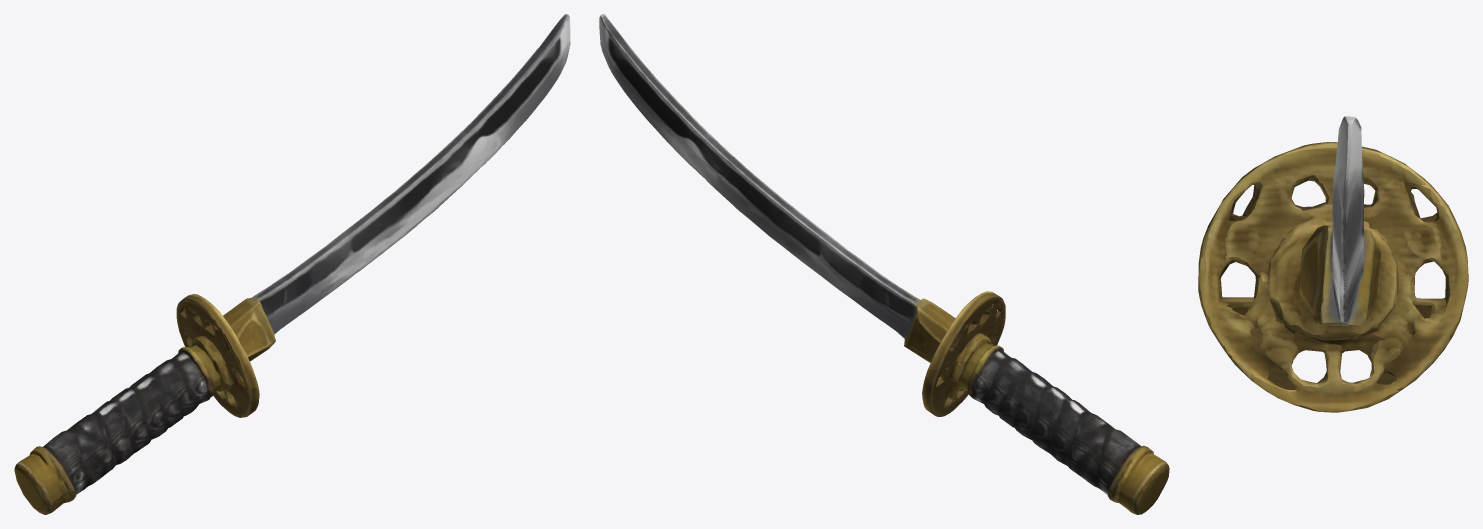
Rendered from katana_low.glb.
3 renders of one model, left to right at view 1: azimuth 30°, elevation 25°; view 2: azimuth 150°, elevation 25°; view 3: azimuth 270°, elevation 25°, orthographic. The views are drawn at different scales.
Visible parts, largest first — view 1: world; view 2: world; view 3: world.
Boxes of the visible parts, x1=… form: world: x1=14, y1=14, x2=570, y2=514; world: x1=599, y1=14, x2=1169, y2=514; world: x1=1198, y1=116, x2=1468, y2=412.
Size of the model in its own units: 1 by 0.6337 by 0.2128.
1 material, 1 textured.
